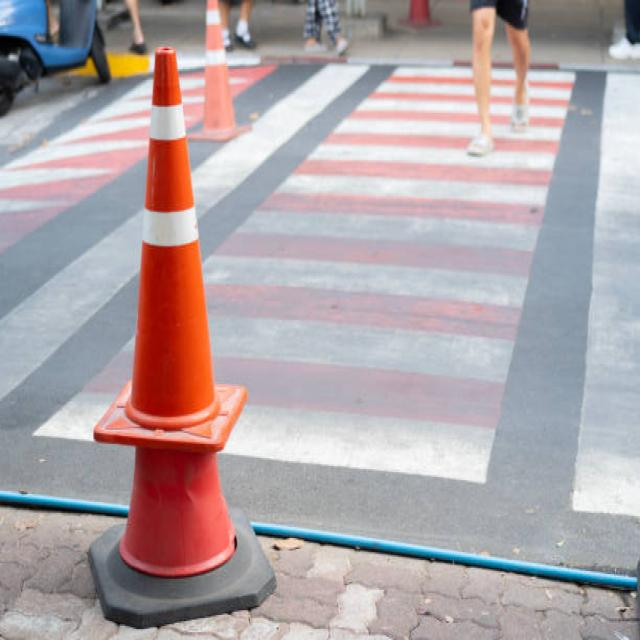Traffic Cone: (82, 33, 260, 472)
